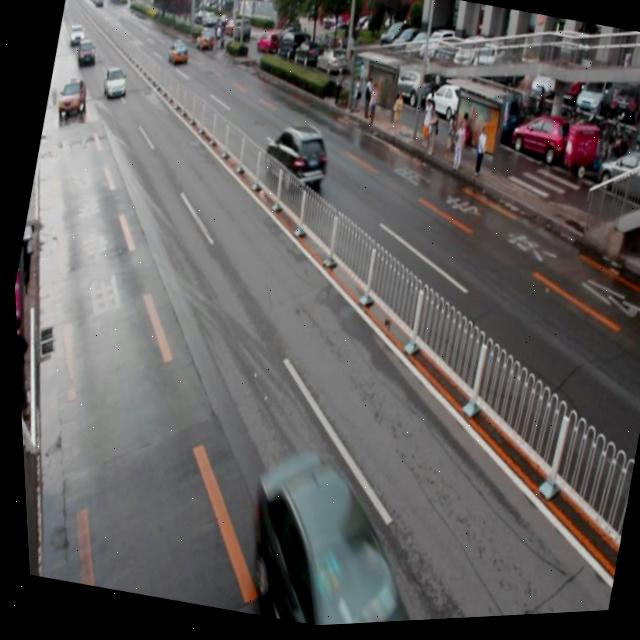car: (221, 440, 451, 632), (254, 119, 334, 199)
